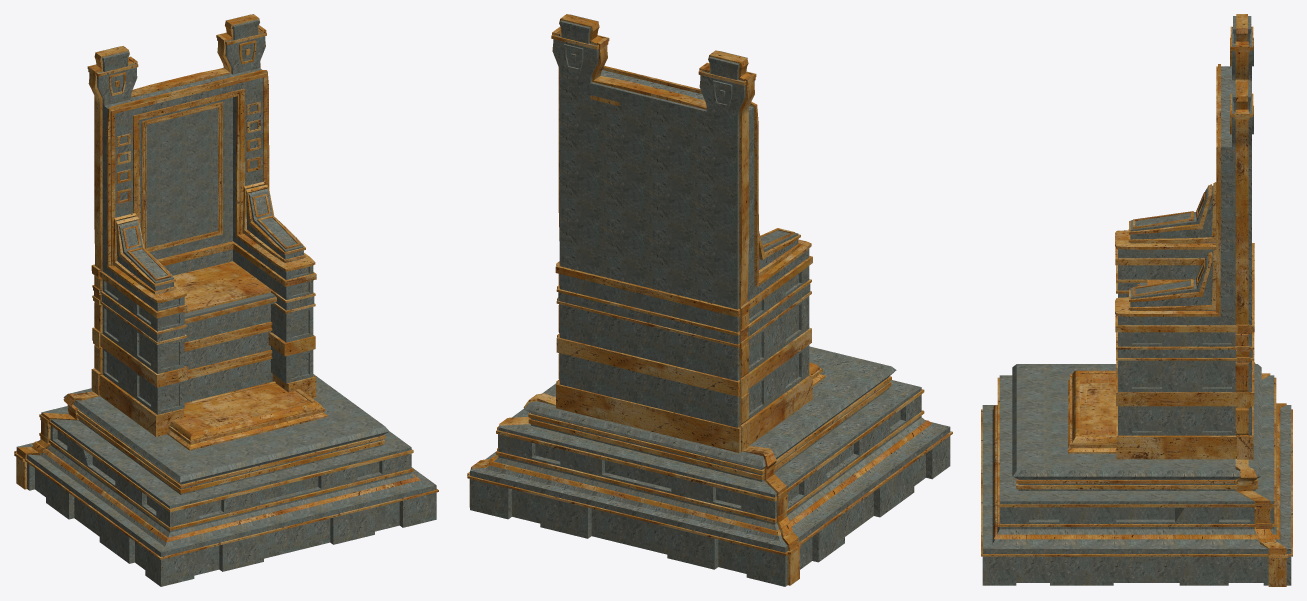
File: fbxChair.fbx
3 views of the same model, side by side, from view 1: azimuth 30°, elevation 25°; view 2: azimuth 150°, elevation 25°; view 3: azimuth 270°, elevation 25° (orthographic). The views are drawn at different scales.
Parts seen in each view (by area): view 1: chair; view 2: chair; view 3: chair.
Boxes of the visible parts, <box> form: chair: <box>14,14,438,586</box>; chair: <box>467,14,952,586</box>; chair: <box>981,14,1292,586</box>.
Bounding box in the file's own units: 3.4 × 4.92 × 3.03.
2 materials, 2 textured.
